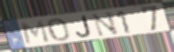1: (116, 10, 132, 34)
7: (140, 4, 160, 32)
J: (75, 15, 93, 39)
M: (20, 19, 51, 46)
N: (91, 11, 121, 38)
O: (47, 18, 72, 42)
